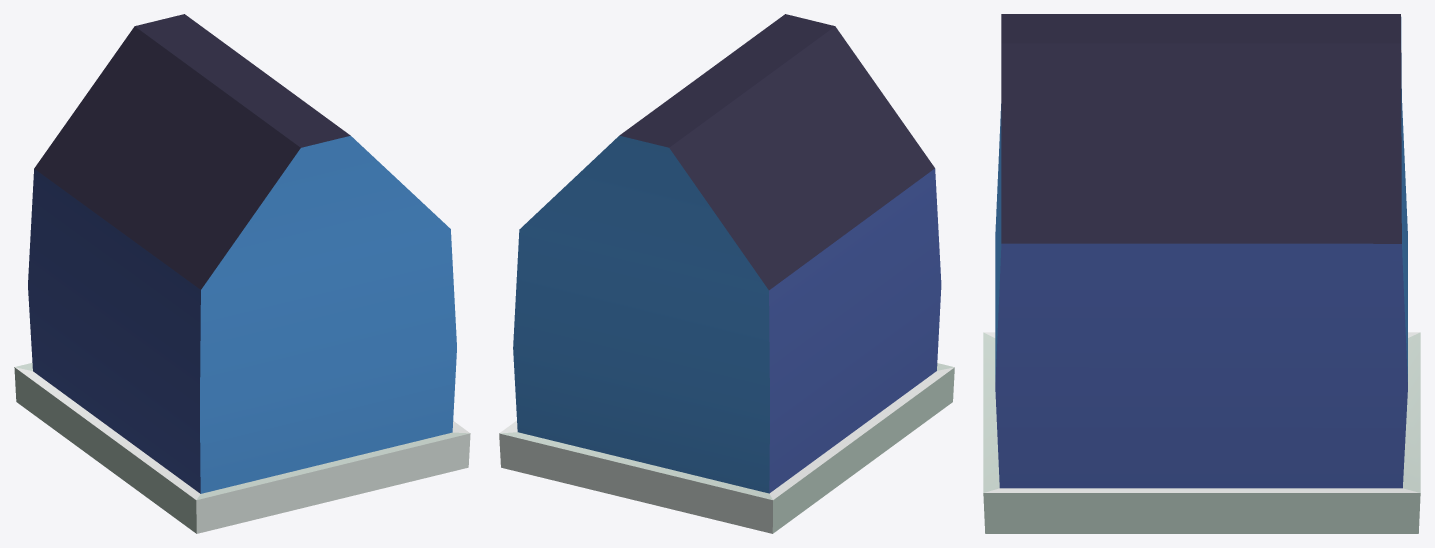
The model's file is House01_Blue_White.glb.
The picture shows the model from 3 angles, left to right: view 1: azimuth 30°, elevation 25°; view 2: azimuth 150°, elevation 25°; view 3: azimuth 270°, elevation 25°; orthographic projection. The views are drawn at different scales.
Visible parts, largest first — view 1: House01_Blue_White; view 2: House01_Blue_White; view 3: House01_Blue_White.
Part boxes in pixels (x1,y1,x2,y2): House01_Blue_White: [14, 14, 470, 533]; House01_Blue_White: [499, 14, 954, 533]; House01_Blue_White: [983, 14, 1420, 533].
Size of the model in its own units: 2.04 by 2.51 by 2.34.
1 material, 1 textured.
